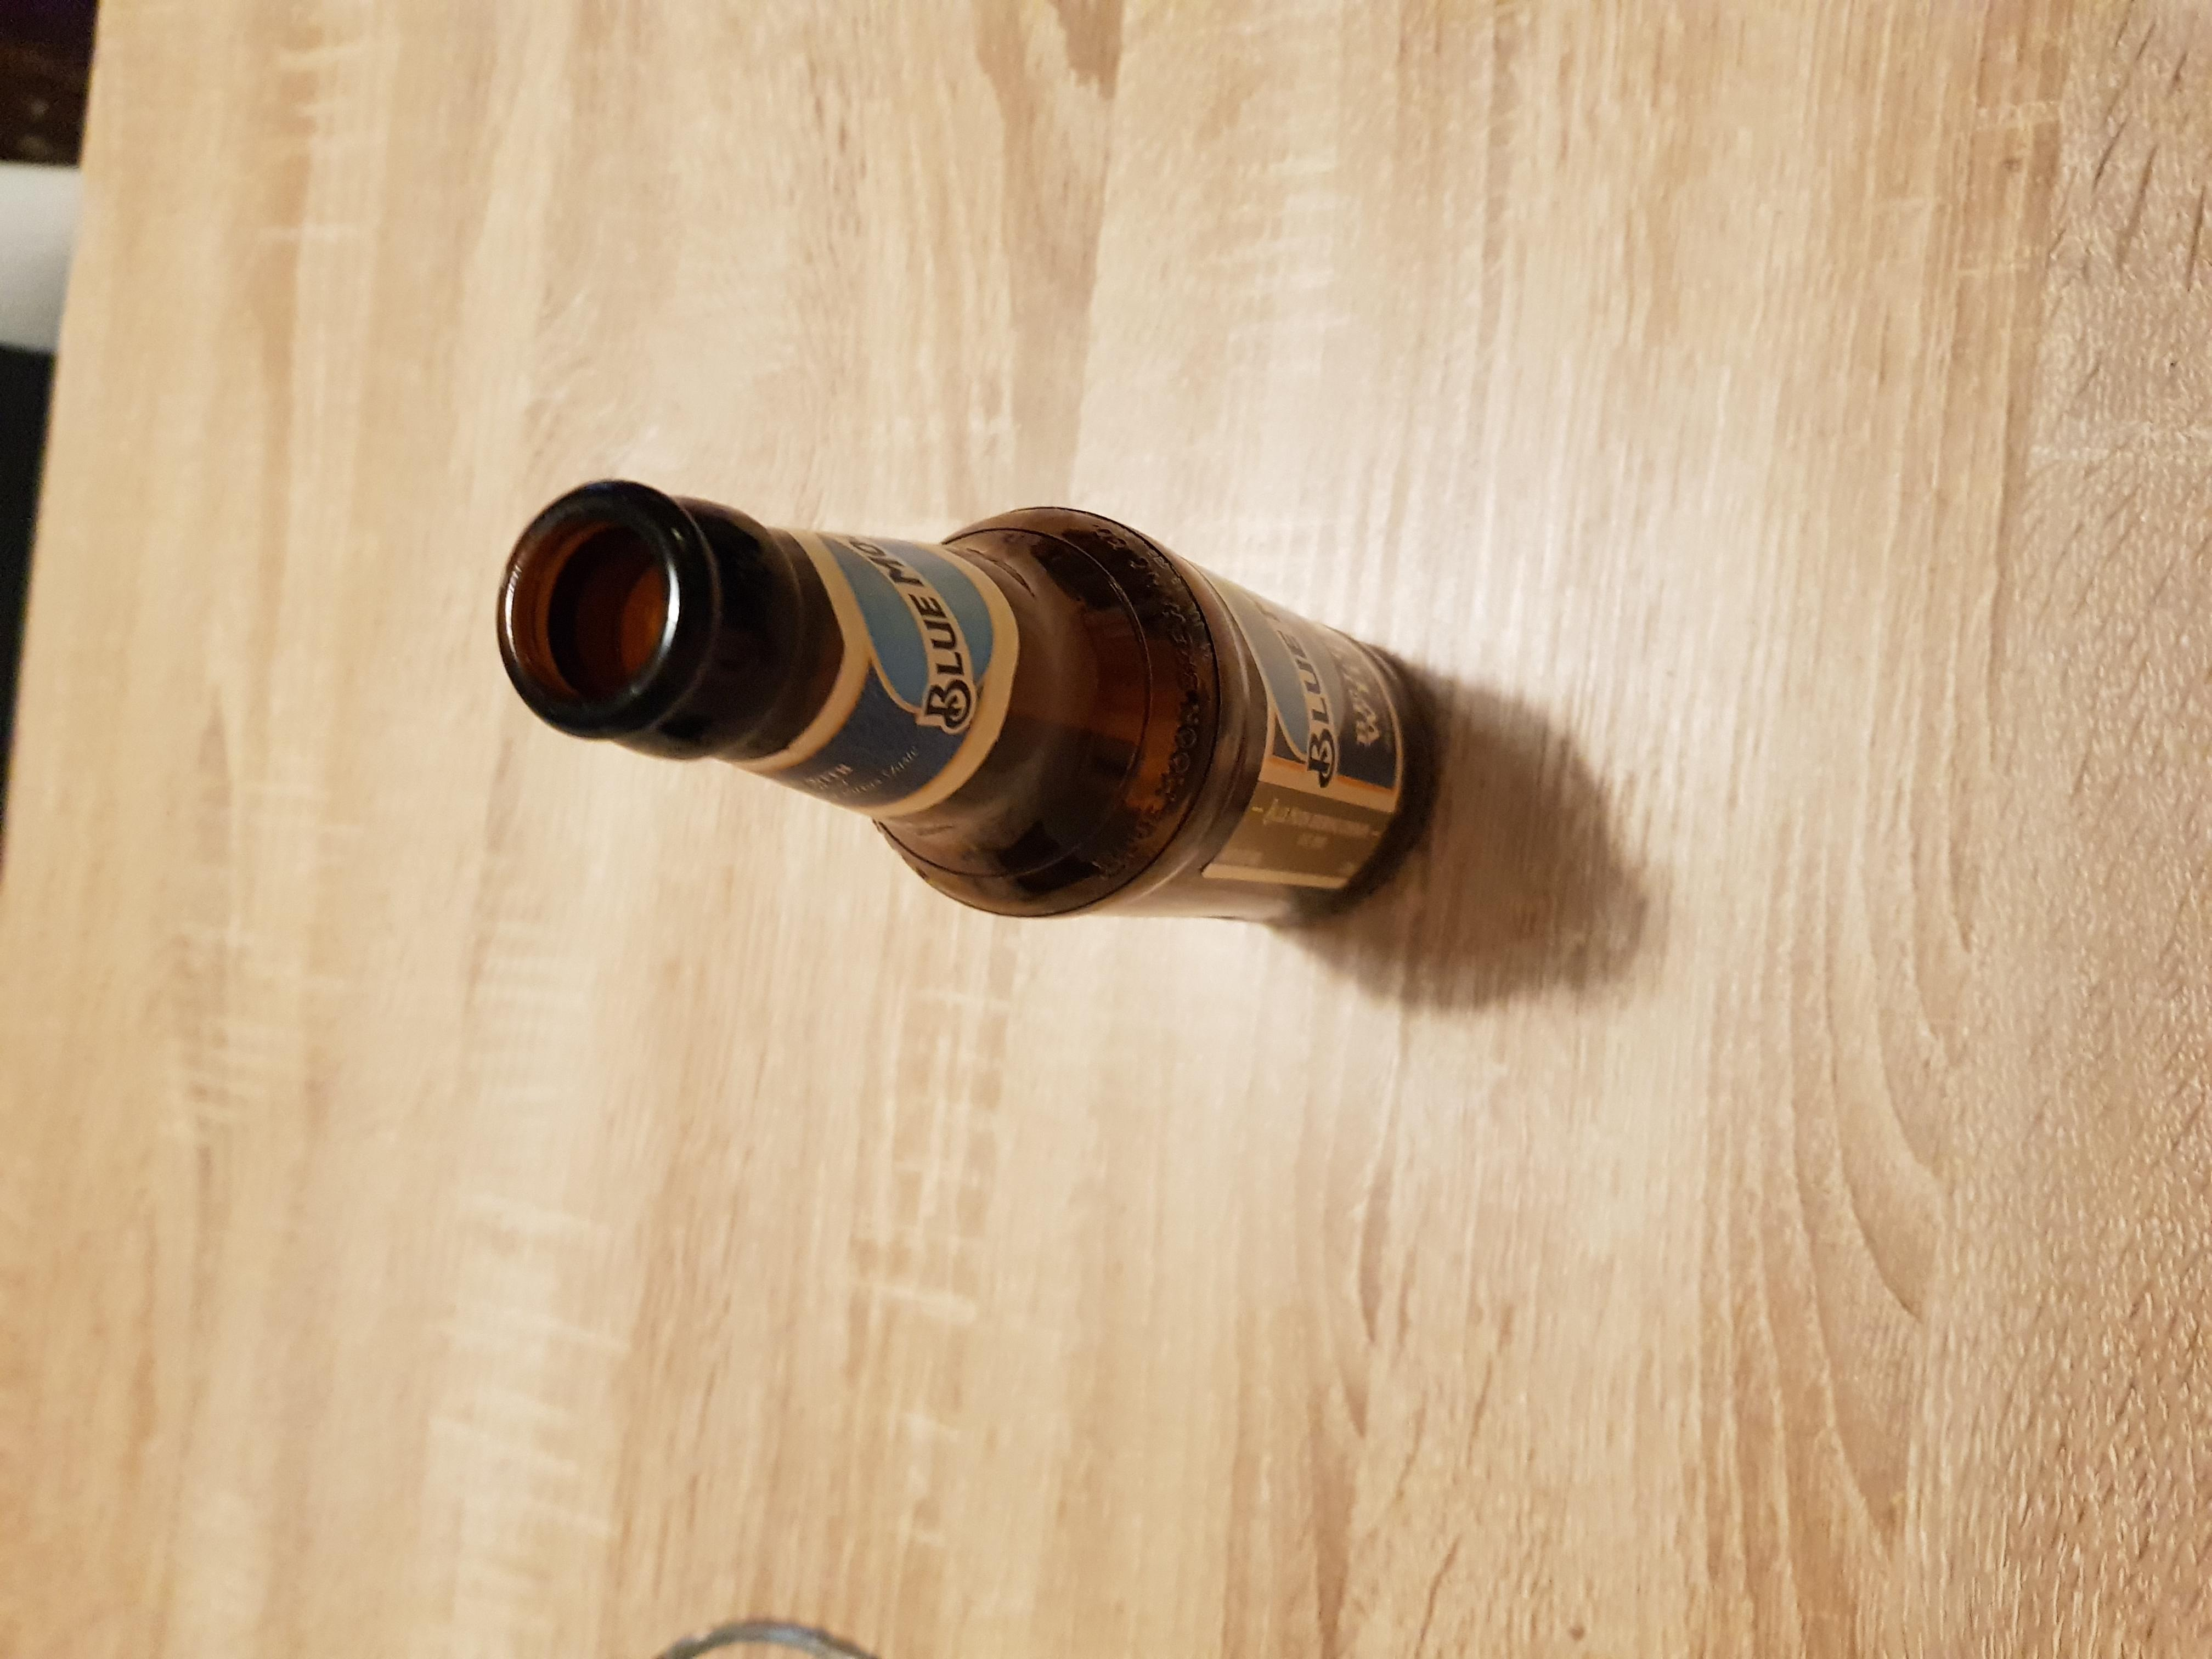bottle: (489, 476, 1425, 939)
